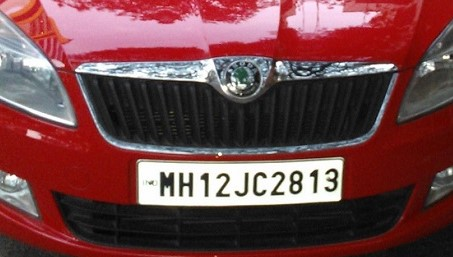MH12JC2813: (136, 157, 343, 205)
